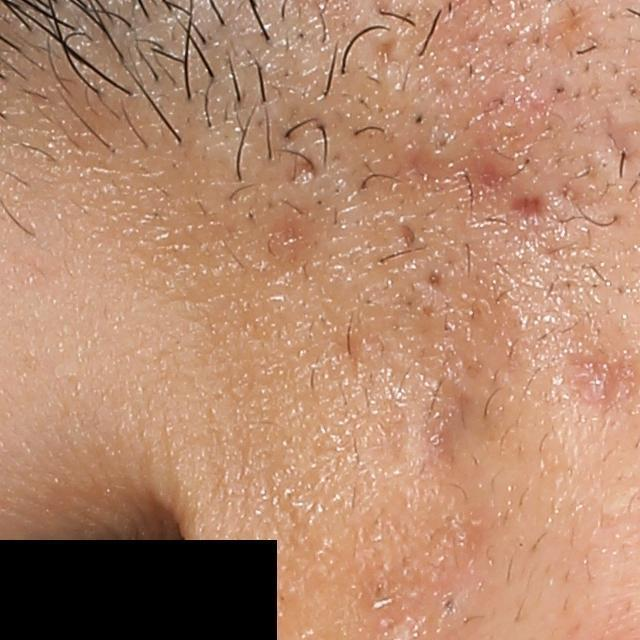atrophic_scar: (412, 369, 487, 470), (567, 352, 626, 410), (455, 151, 511, 212), (272, 212, 315, 274), (412, 149, 457, 205), (506, 190, 551, 223), (289, 156, 319, 186), (374, 37, 399, 66), (425, 268, 444, 291), (400, 224, 415, 248)
